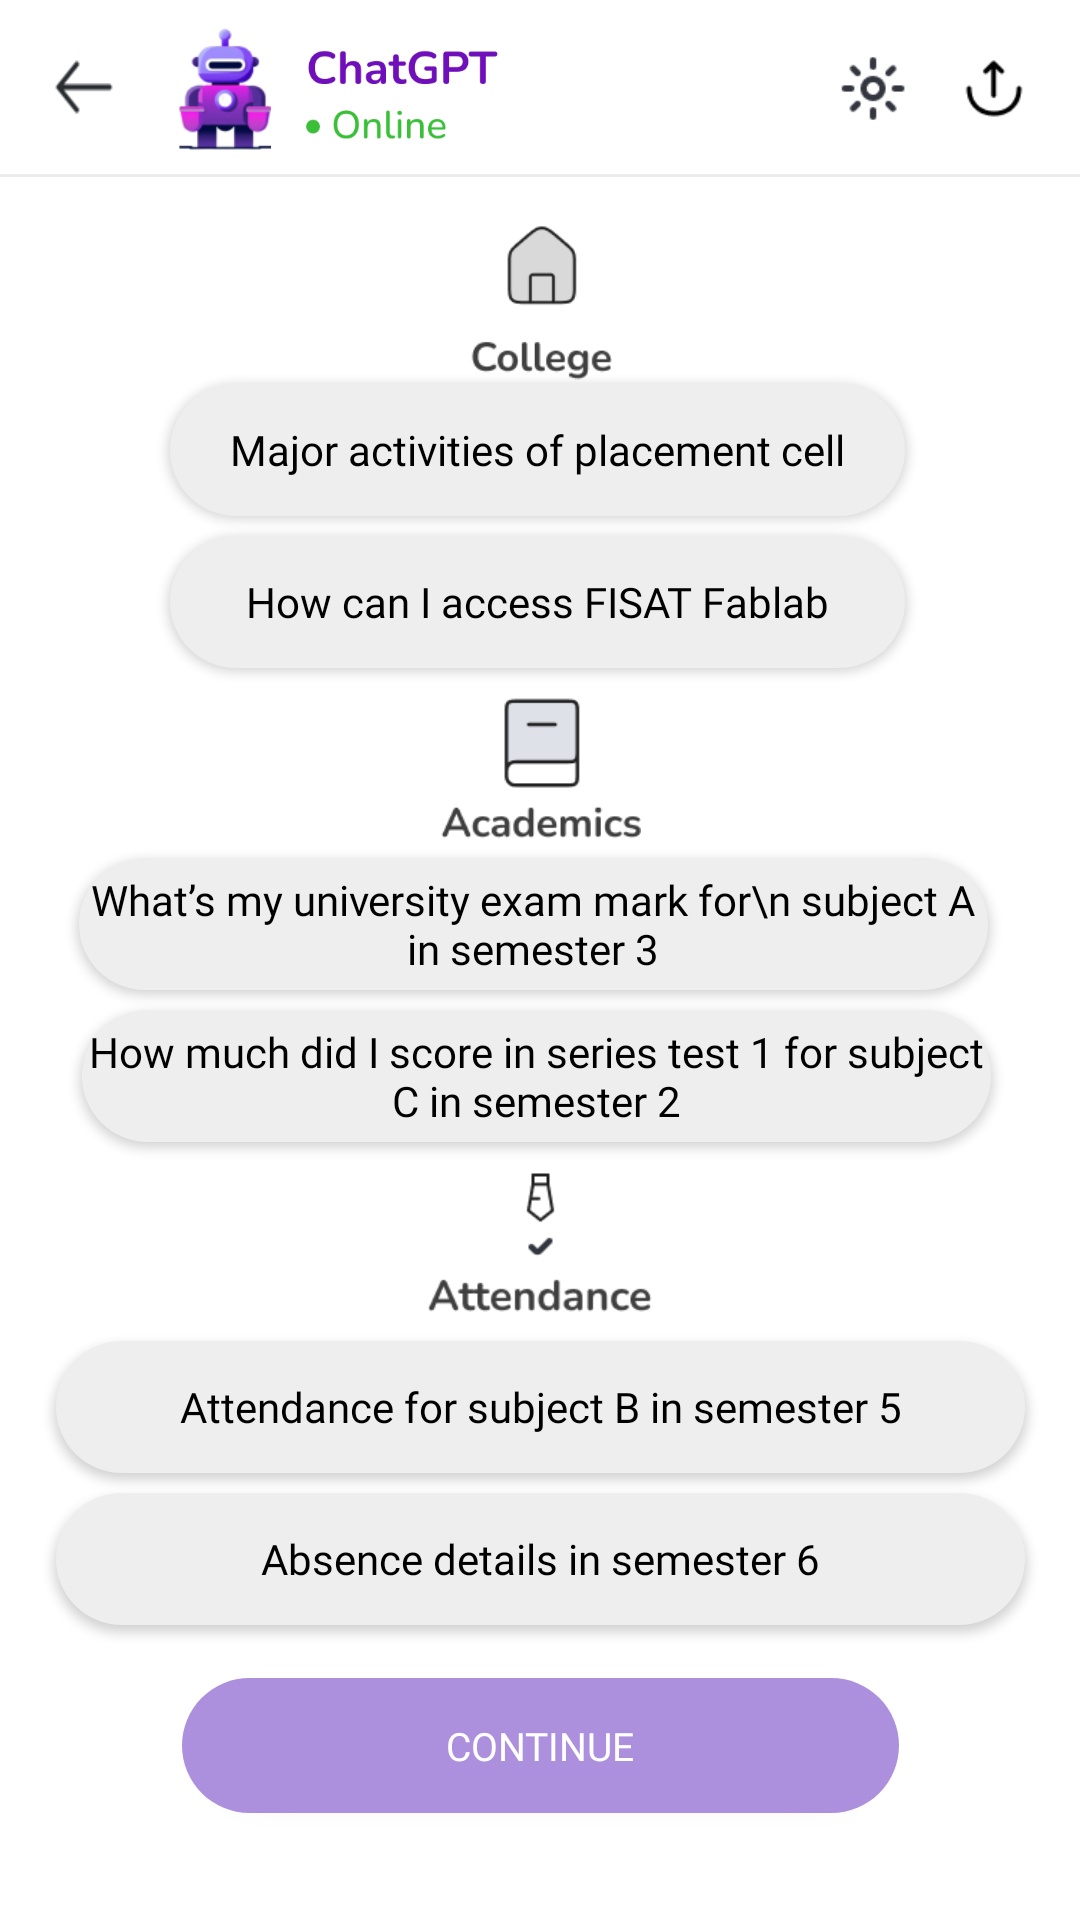

Icon bounding boxes for this 1080×1920 phone screenshot, format BBox(x1, y1, x2, y2):
bot: BBox(179, 29, 271, 150)
